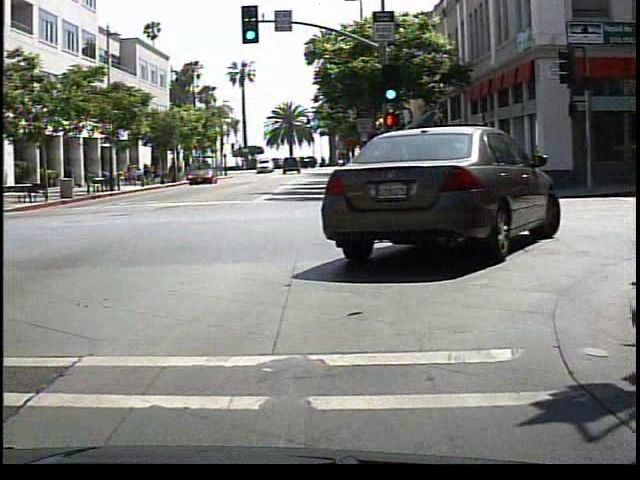person: (58, 160, 76, 192)
